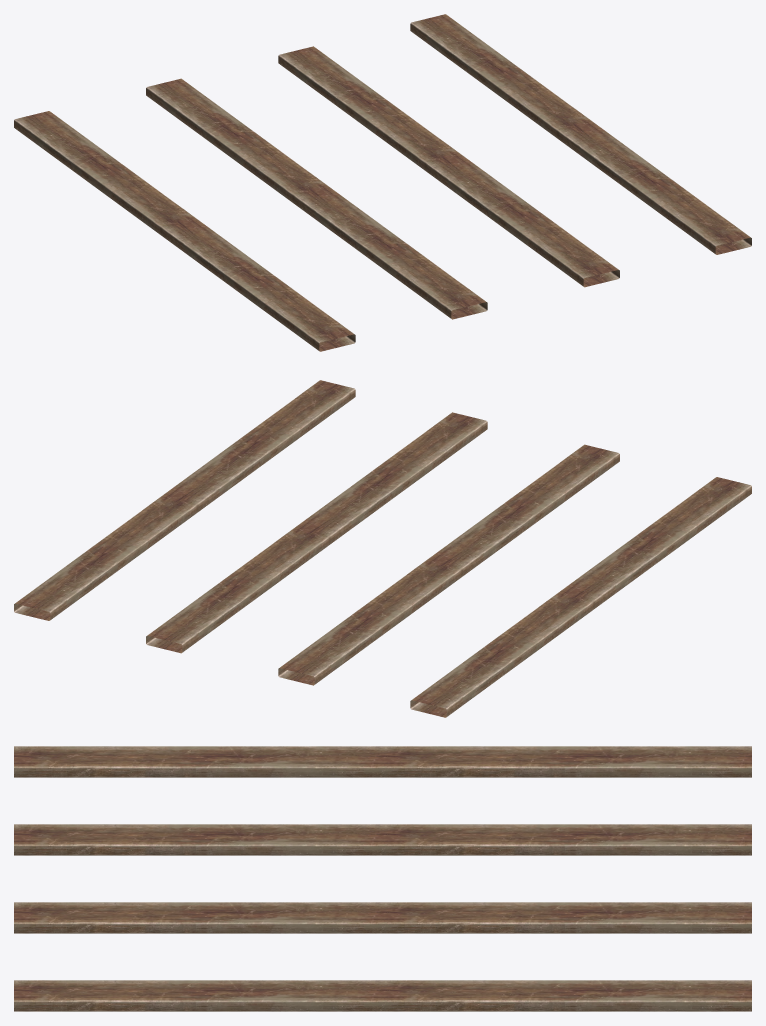
3 renders of one model, top to bottom at view 1: azimuth 30°, elevation 25°; view 2: azimuth 150°, elevation 25°; view 3: azimuth 270°, elevation 25°, orthographic. The views are drawn at different scales.
Parts seen in each view (by area): view 1: SM_Greathall_UnderRoof_LOD0; view 2: SM_Greathall_UnderRoof_LOD0; view 3: SM_Greathall_UnderRoof_LOD0.
Boxes of the visible parts, x1,y1,x2,y2 form: SM_Greathall_UnderRoof_LOD0: (14,14,751,351); SM_Greathall_UnderRoof_LOD0: (14,380,751,717); SM_Greathall_UnderRoof_LOD0: (14,746,751,1011).
Bounding box in the file's own units: 6.55 × 0.1338 × 8.
1 material, 1 textured.
